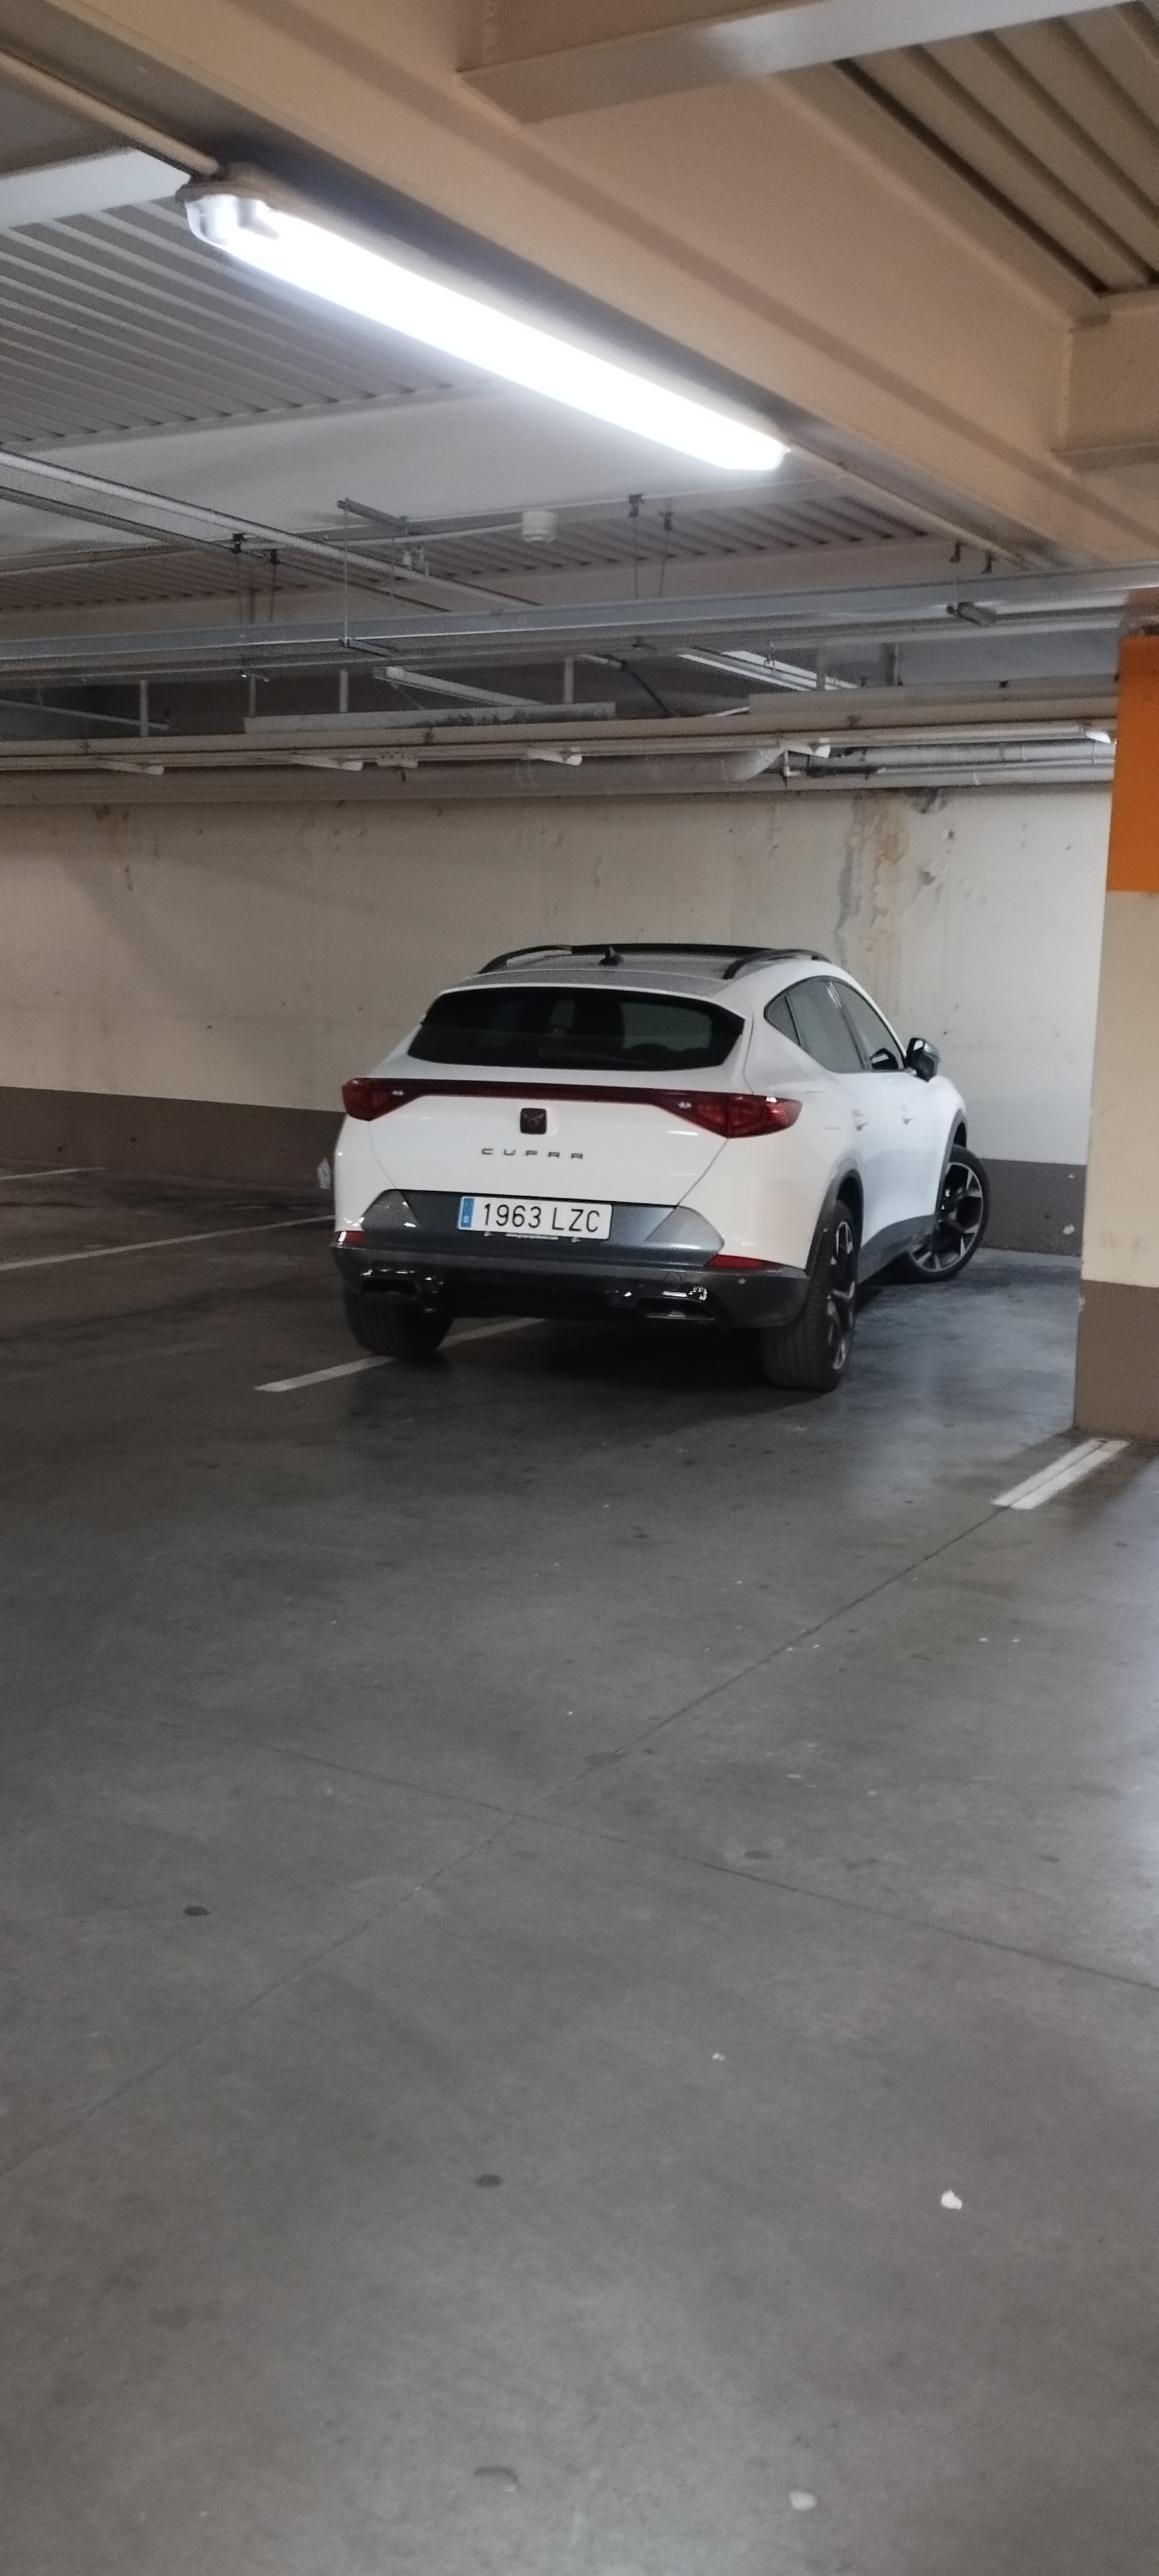Car: (331, 948, 978, 1384)
Plate: (456, 1191, 612, 1232)
